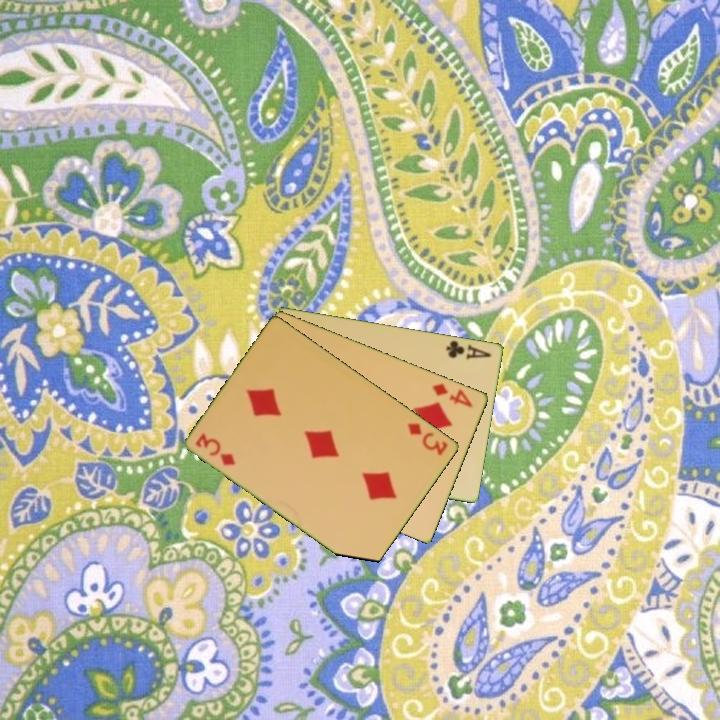3d: (192, 429, 238, 469), (404, 419, 451, 458)
4d: (429, 380, 476, 410)
Ac: (443, 337, 494, 362)
